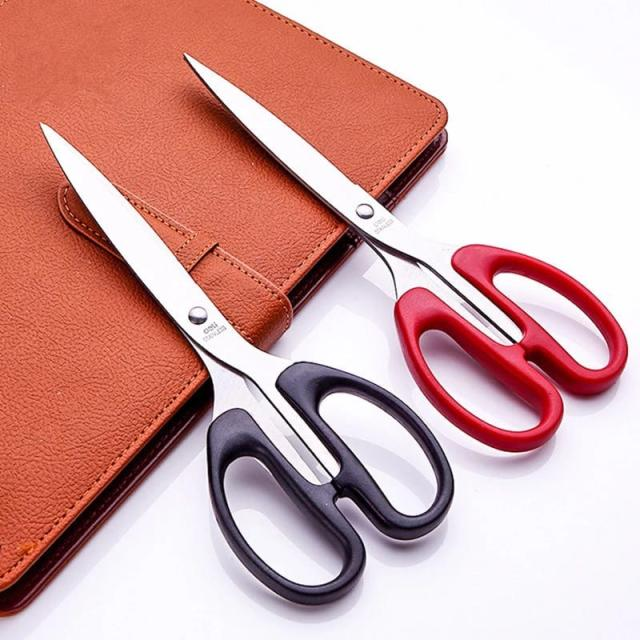scissor: (12, 93, 446, 640)
